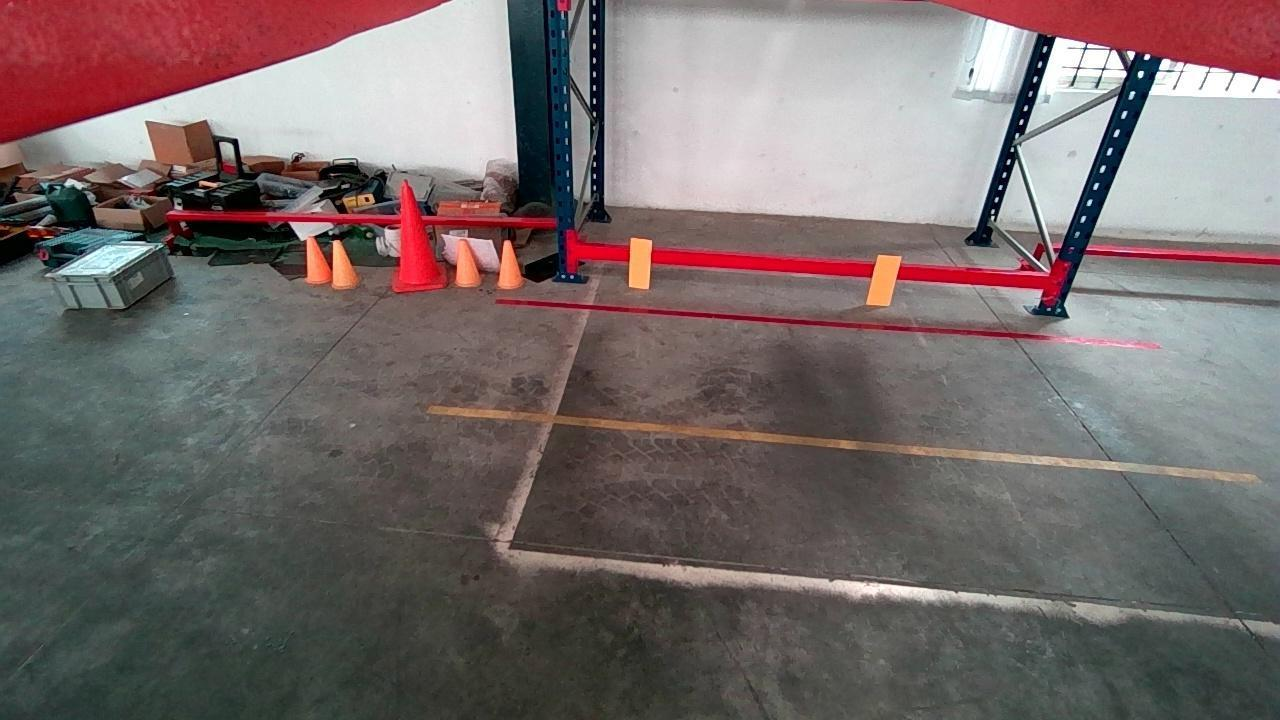h_rack: (576, 240, 1056, 288)
orange_strip: (867, 255, 901, 305), (628, 238, 651, 288)
red_line: (495, 293, 1162, 350)
yellow_line: (423, 404, 1263, 484)
